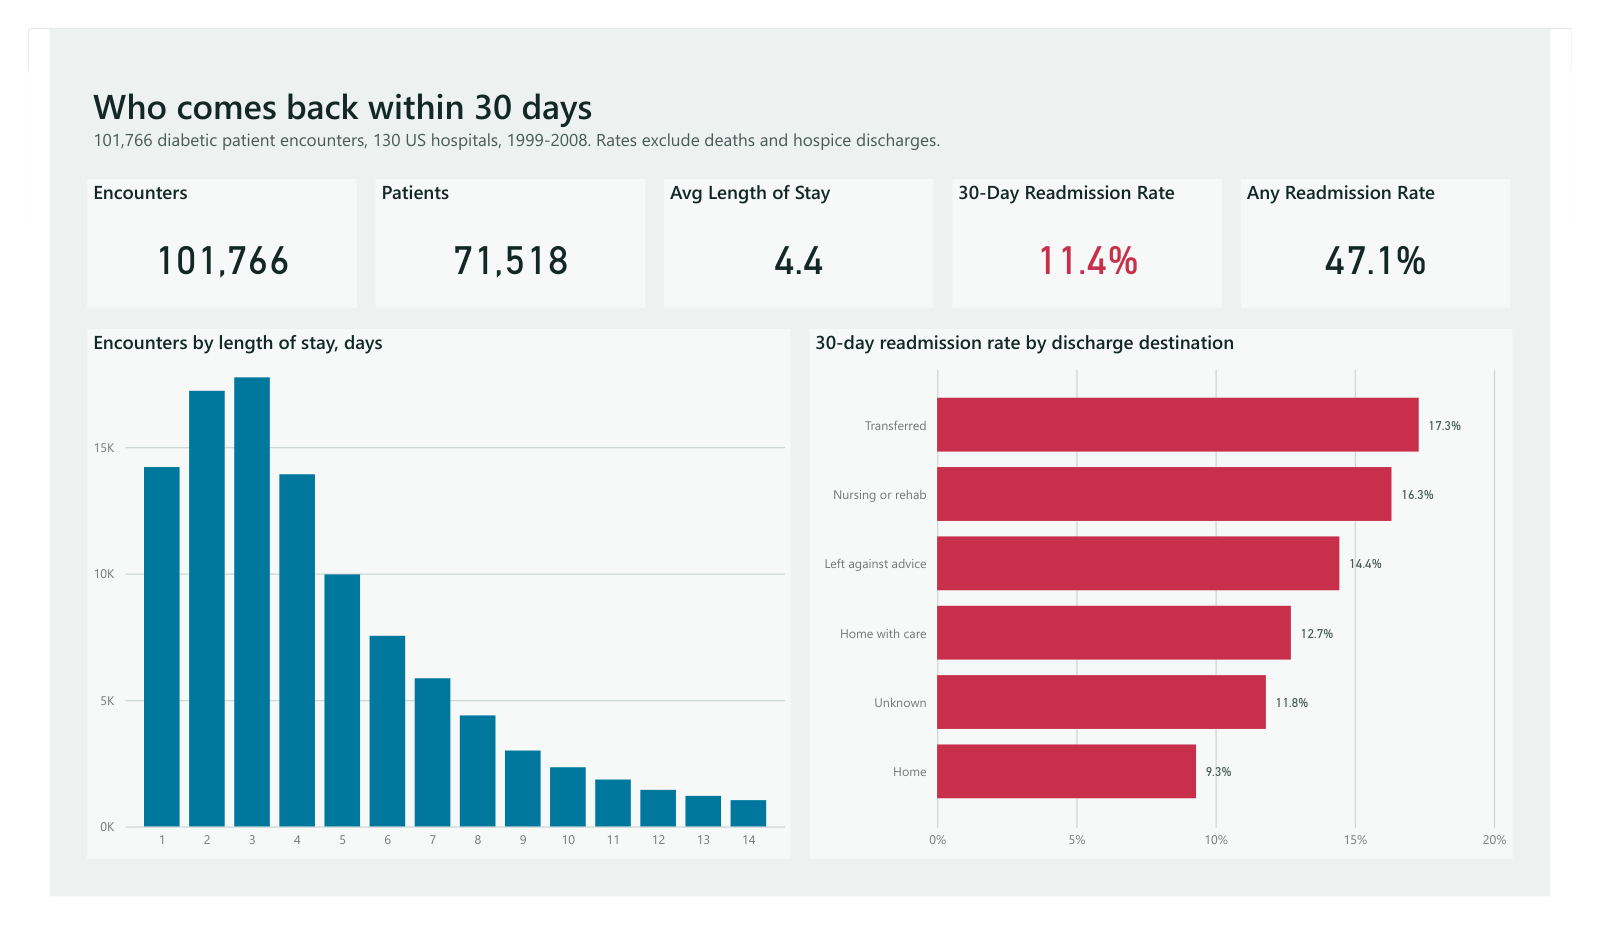

Layout of this report page (visuals, bound fields, positions):
{"tool":"powerbi","page":{"name":"Overview","canvas":[1280,720],"ordinal":0},"visuals":[{"type":"textbox","box":[32,20,900,74],"z":0},{"type":"card","title":"Encounters","fields":{"Values":["fact_encounter.Encounters"]},"box":[32,108,230,110],"z":1000},{"type":"card","title":"Patients","fields":{"Values":["fact_encounter.Patients"]},"box":[278,108,230,110],"z":2000},{"type":"card","title":"Avg Length of Stay","fields":{"Values":["fact_encounter.Avg Length of Stay"]},"box":[524,108,230,110],"z":3000},{"type":"card","title":"30-Day Readmission Rate","fields":{"Values":["fact_encounter.30-Day Readmission Rate"]},"box":[770,108,230,110],"z":4000},{"type":"card","title":"Any Readmission Rate","fields":{"Values":["fact_encounter.Any Readmission Rate"]},"box":[1016,108,230,110],"z":5000},{"type":"clusteredColumnChart","title":"Encounters by length of stay, days","fields":{"Category":["fact_encounter.los_days"],"Y":["fact_encounter.Encounters"]},"box":[32,236,600,452],"z":6000},{"type":"clusteredBarChart","title":"30-day readmission rate by discharge destination","fields":{"Category":["fact_encounter.discharge_group"],"Y":["fact_encounter.30-Day Readmission Rate"]},"box":[648,236,600,452],"z":7000}]}

Visuals, with their boxes in screenshot pixels (x1, y1, x2, y2), scaled from the page's 1280x720 canvas onto the 1600x926 screenshot:
textbox: box=[40, 26, 1165, 121]
"Encounters" card: box=[40, 139, 328, 280]
"Patients" card: box=[348, 139, 635, 280]
"Avg Length of Stay" card: box=[655, 139, 942, 280]
"30-Day Readmission Rate" card: box=[962, 139, 1250, 280]
"Any Readmission Rate" card: box=[1270, 139, 1558, 280]
"Encounters by length of stay, days" clusteredColumnChart: box=[40, 304, 790, 885]
"30-day readmission rate by discharge destination" clusteredBarChart: box=[810, 304, 1560, 885]
